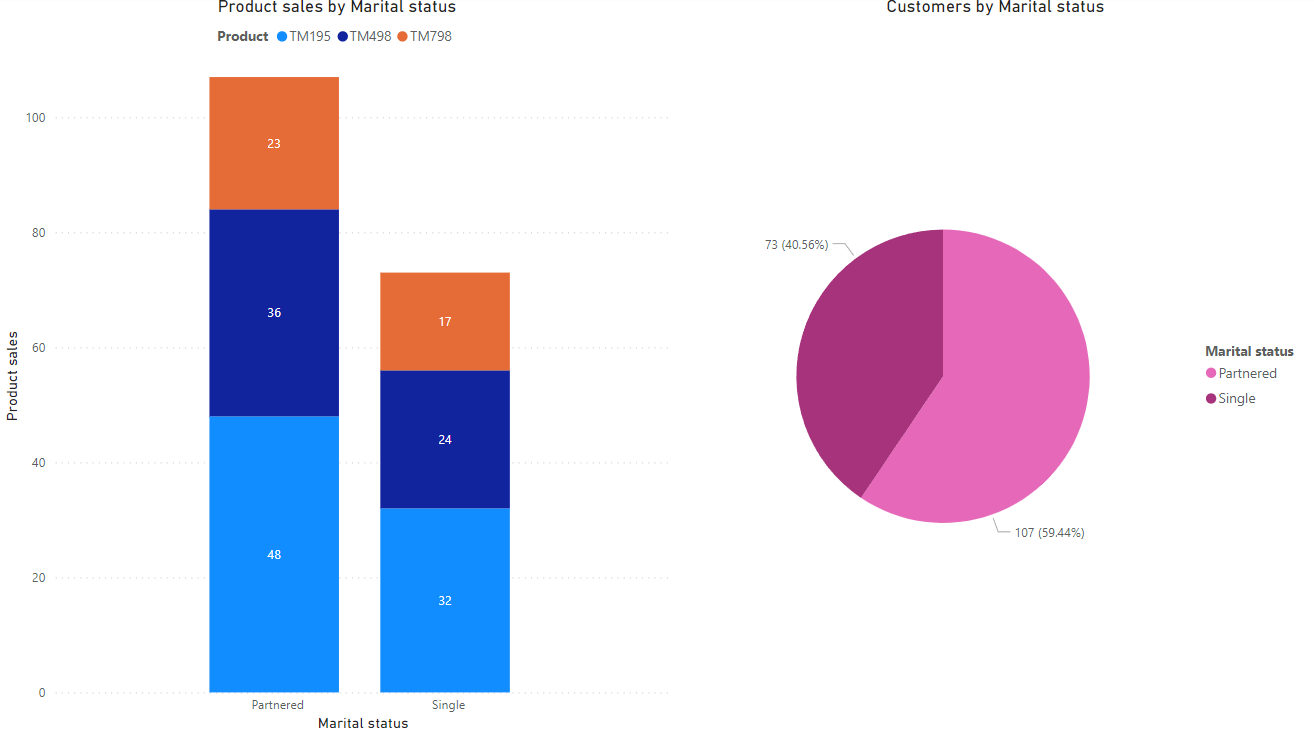

The page's visual inventory and layout, read from the dashboard file:
{"tool":"powerbi","page":{"name":"Marital status visuals","canvas":[1280,720],"ordinal":2},"visuals":[{"type":"pieChart","title":"Customers by Marital status","fields":{"Y":["CountNonNull(CGF_Data.MaritalStatus)"],"Category":["CGF_Data.MaritalStatus"]},"box":[659,0,621,720.2],"z":0},{"type":"columnChart","title":"Product sales by Marital status","fields":{"Series":["CGF_Data.Product"],"Y":["CountNonNull(CGF_Data.Product)"],"Category":["CGF_Data.MaritalStatus"]},"box":[0,0,659,720.2],"z":1000}]}

Visuals, with their boxes in screenshot pixels (x1, y1, x2, y2), scaled from the page's 1280x720 canvas onto the 1314x736 screenshot:
"Customers by Marital status" pieChart: bbox(677, 0, 1313, 735)
"Product sales by Marital status" columnChart: bbox(0, 0, 677, 735)
